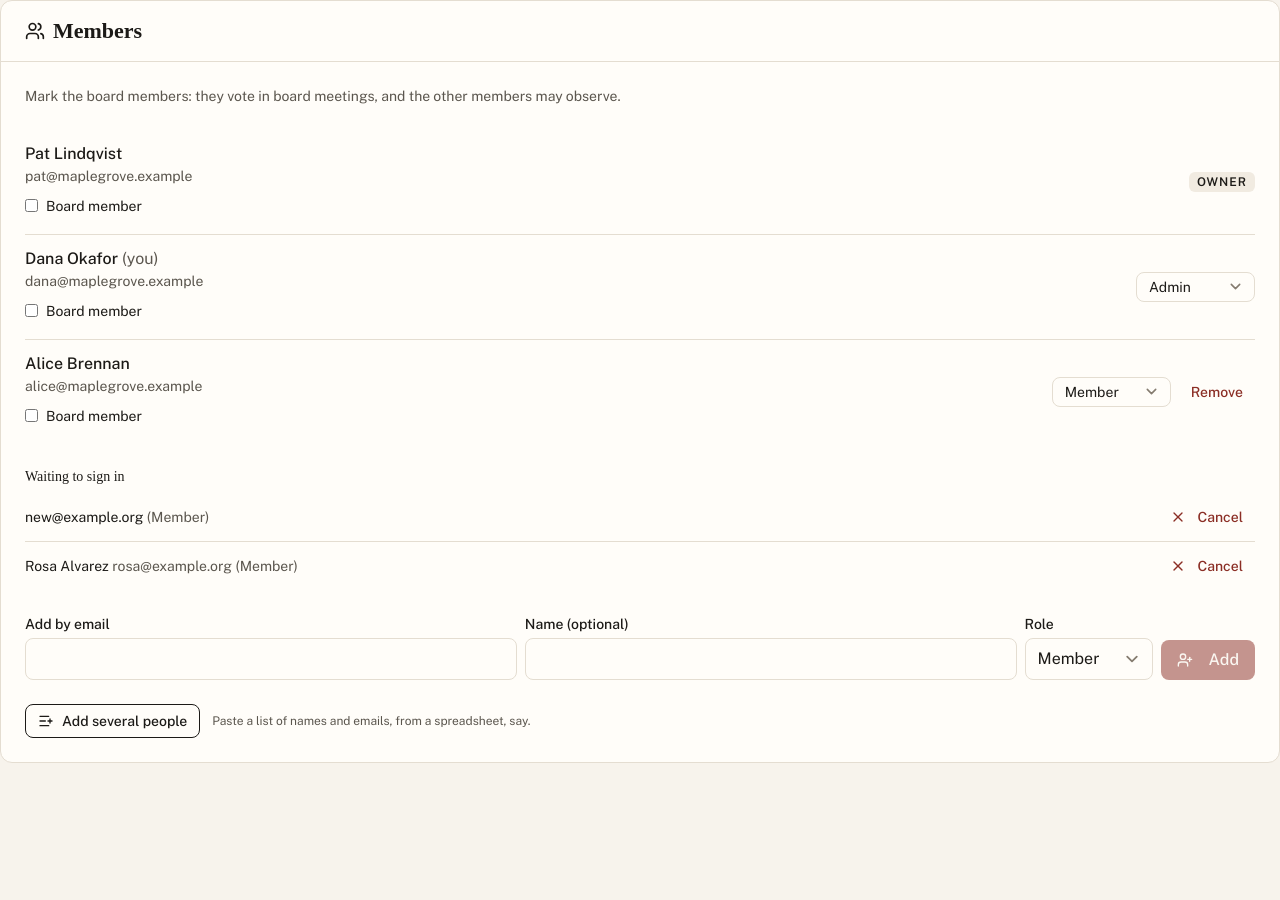
Test: MembersCard › keeps a change's outcome when the list can't be reloaded
The image size is (1280, 900).
Select "Secretary" in the dropdown named "Role of Alice Brennan" at (1111, 392), box [1052,376,1171,406]
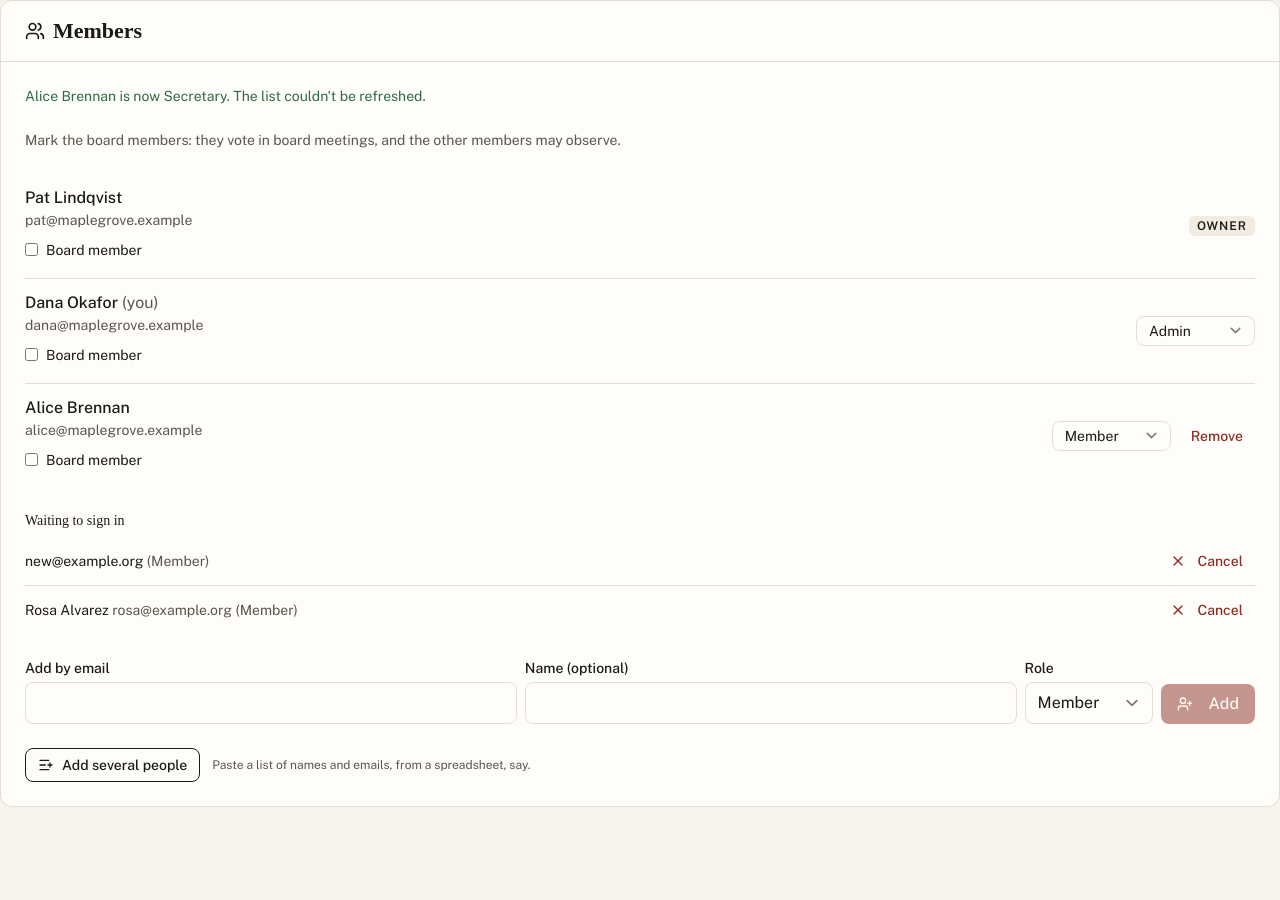
Result: the message reads "Alice Brennan is now Secretary. The list couldn't be refreshed." at [25,88,426,104]
